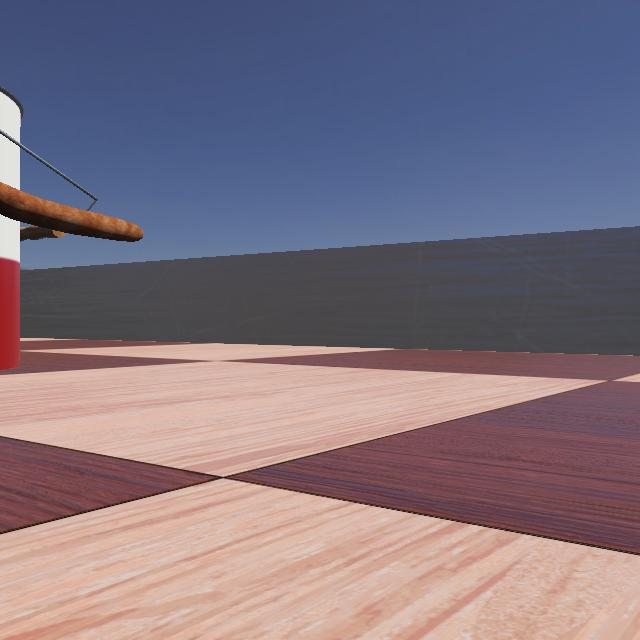cat: (0, 142, 152, 244), (0, 142, 152, 244)
paint-bucket: (0, 22, 146, 386)
